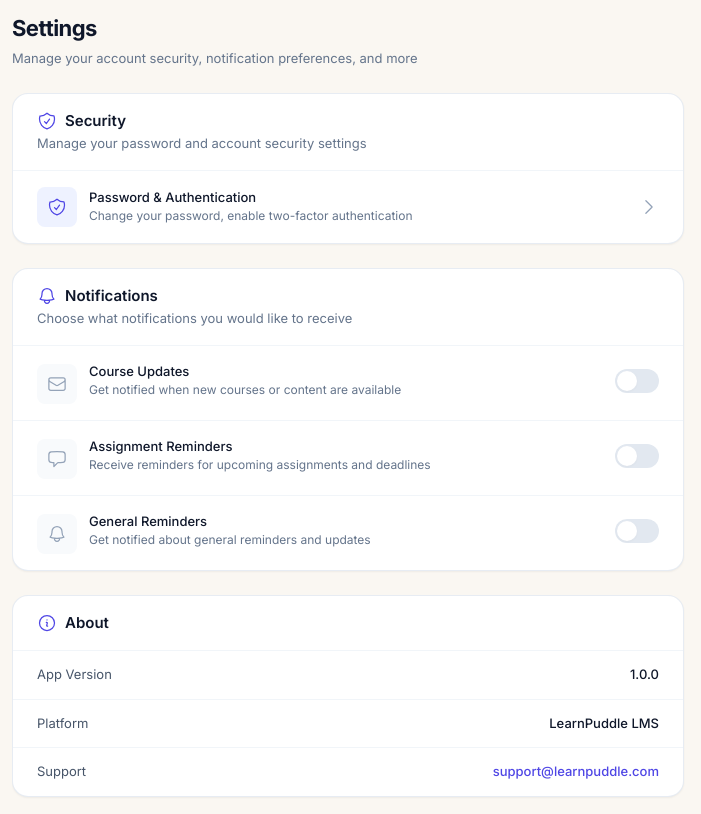
Test: SettingsPage › per-toggle saving/disabled state › disables the switch while its PATCH request is in-flight
Click the switch in the row of "Course Updates": [637, 380] box left=615, top=368, right=659, bottom=392
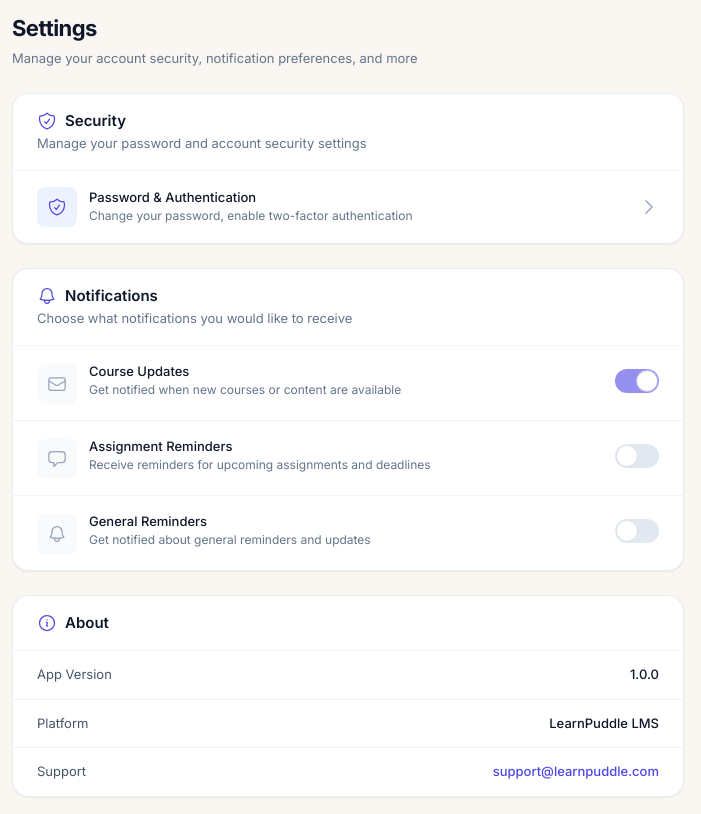
expect the switch in the row of "Course Updates" is disabled: met, box left=615, top=368, right=659, bottom=392
